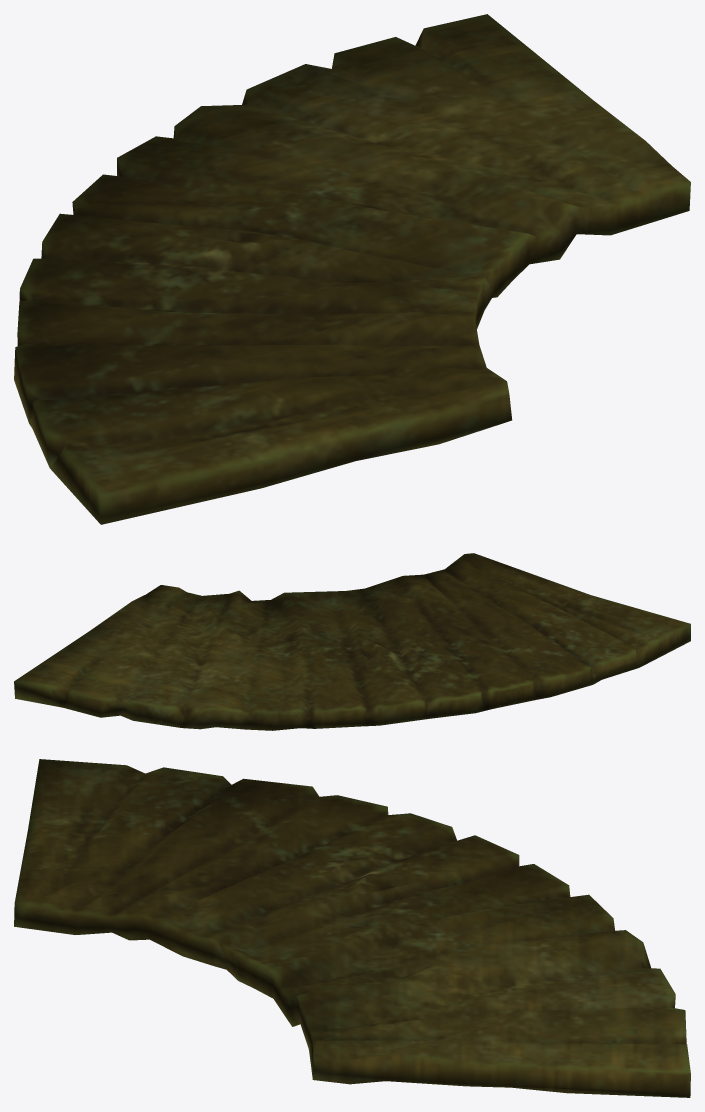
The model's file is SM_quarter_platform_01.fbx.
3 views of the same model, one above another, from view 1: azimuth 30°, elevation 25°; view 2: azimuth 150°, elevation 25°; view 3: azimuth 270°, elevation 25° (orthographic). The views are drawn at different scales.
Parts seen in each view (by area): view 1: quarter_platform_01; view 2: quarter_platform_01; view 3: quarter_platform_01.
Part boxes in pixels (<box>): quarter_platform_01: <box>14,14,690,524</box>; quarter_platform_01: <box>14,553,690,730</box>; quarter_platform_01: <box>14,759,690,1097</box>.
Bounding box in the file's own units: 850 × 60.91 × 774.
